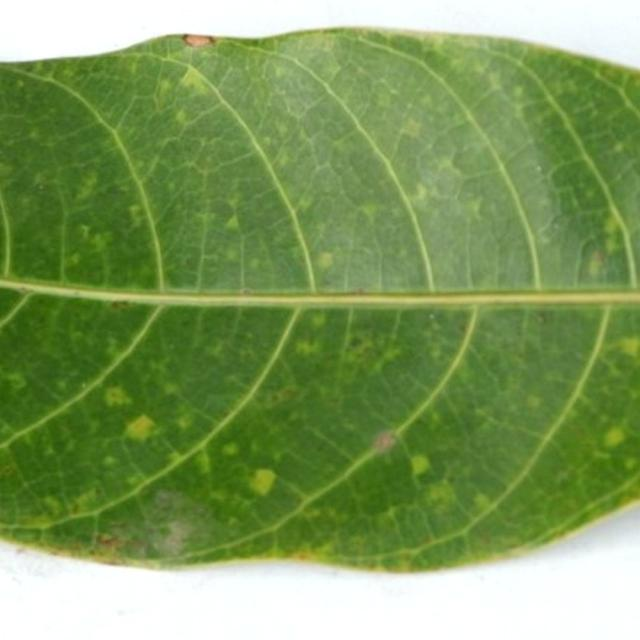Mango: (0, 289, 639, 569), (0, 30, 639, 293)
Powdery_Mildew: (56, 216, 125, 286), (333, 328, 397, 372), (302, 98, 354, 149), (177, 62, 215, 95), (159, 520, 192, 553), (124, 414, 157, 441), (248, 468, 277, 497), (424, 481, 453, 507), (103, 386, 132, 411), (75, 172, 98, 200), (317, 56, 343, 80), (371, 430, 396, 453), (269, 386, 297, 406), (400, 116, 424, 139), (585, 251, 605, 278), (294, 338, 320, 358), (194, 449, 213, 475), (603, 426, 626, 447), (357, 201, 381, 221), (618, 337, 640, 358), (6, 372, 28, 393), (128, 203, 147, 227), (411, 454, 431, 476), (603, 213, 622, 235), (464, 194, 483, 216), (411, 181, 429, 203), (43, 495, 62, 515), (474, 492, 492, 511), (176, 413, 194, 431), (317, 251, 334, 269), (221, 441, 240, 457), (97, 533, 118, 547), (224, 214, 240, 232), (0, 462, 17, 478), (525, 395, 543, 410), (151, 94, 166, 112), (310, 313, 326, 328), (174, 109, 188, 125), (536, 310, 551, 324), (504, 540, 523, 551), (295, 551, 315, 561), (79, 224, 91, 237), (625, 457, 637, 469), (513, 85, 524, 98), (458, 320, 469, 333), (103, 456, 116, 466), (15, 547, 28, 557), (239, 287, 253, 296), (17, 286, 30, 295), (354, 287, 366, 295), (71, 289, 81, 297), (428, 313, 436, 321), (37, 183, 45, 190), (535, 165, 542, 172)
